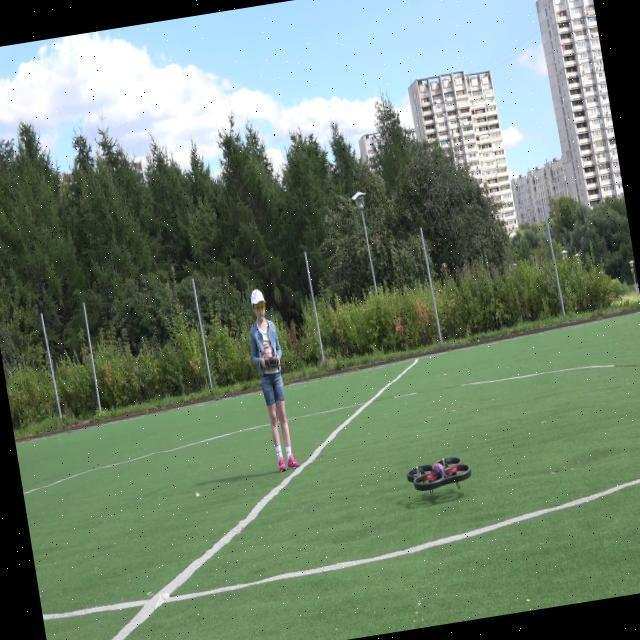Drons: (396, 447, 479, 502)
